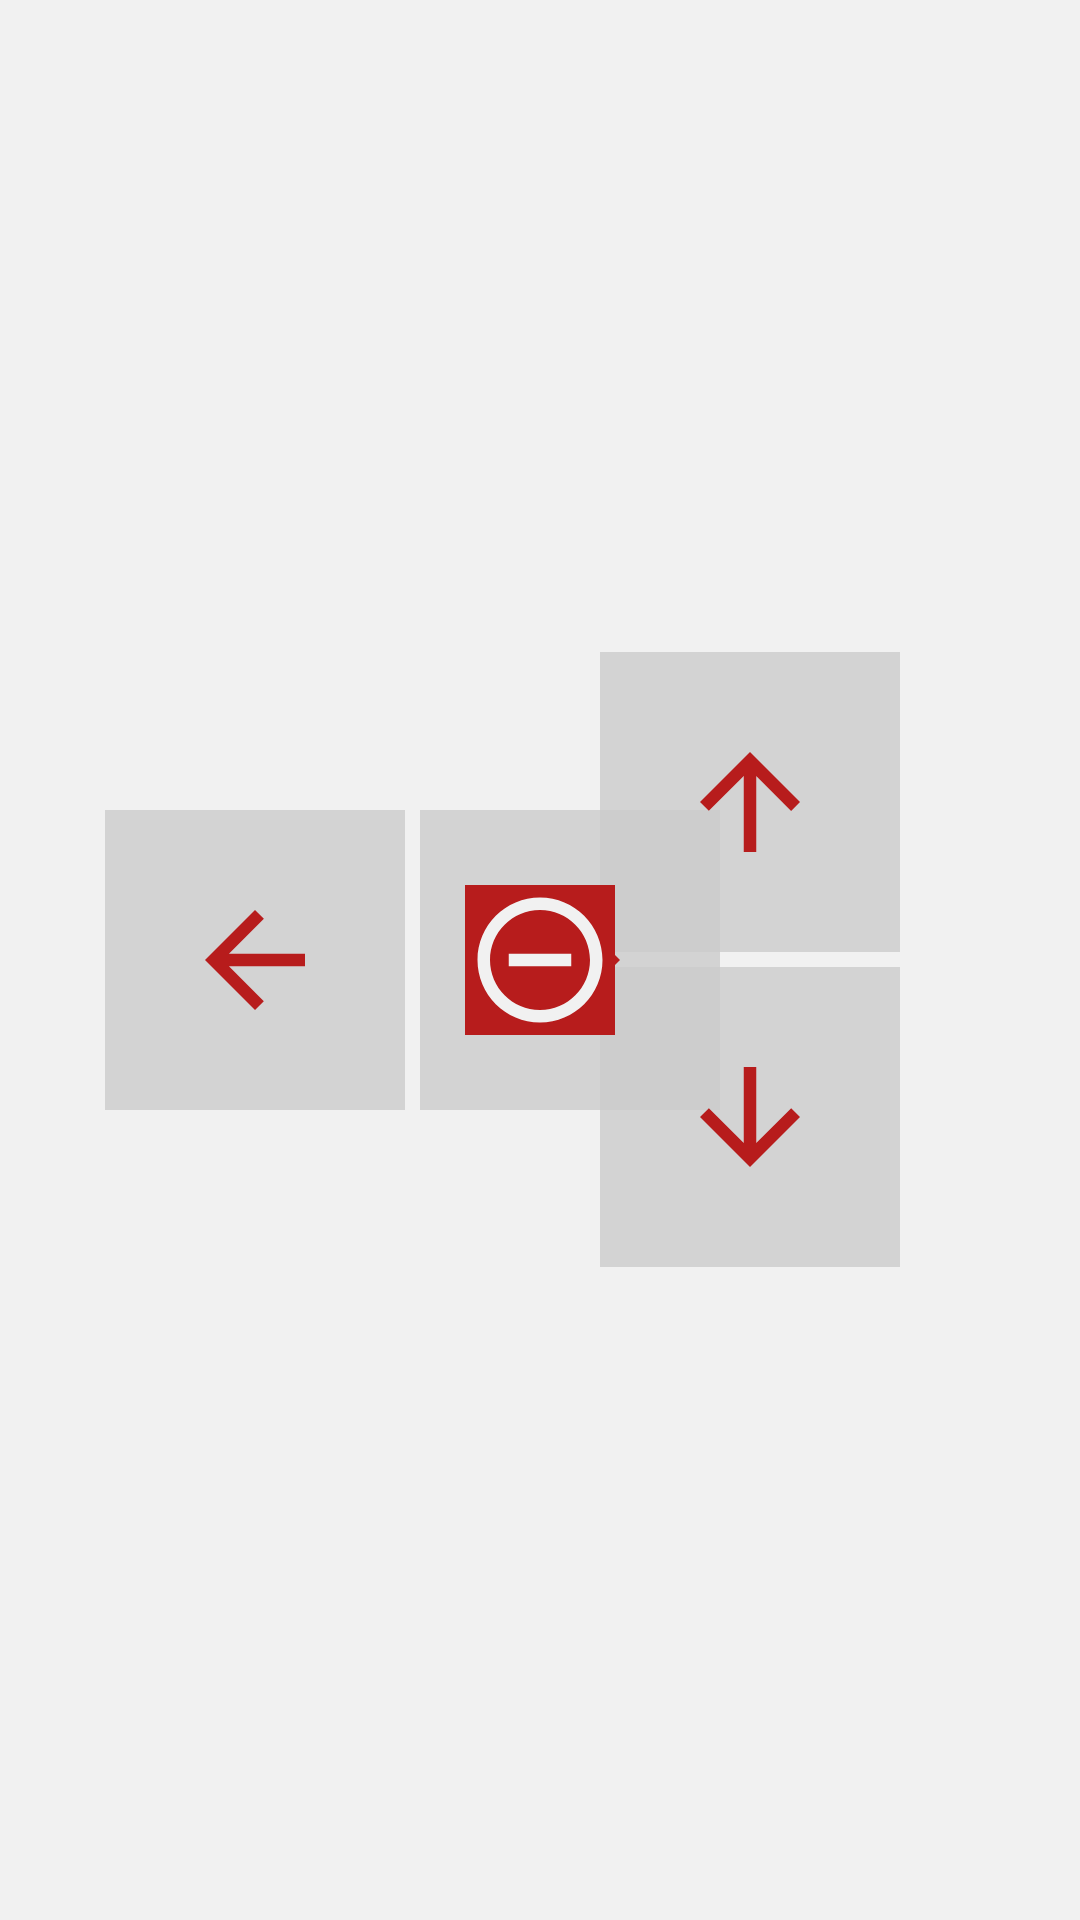

Point at icon controls on the screen. Image size 1080x1920, points as [x,y].
arrow back: [255,960]
arrow downward: [750,1117]
arrow upward: [750,802]
